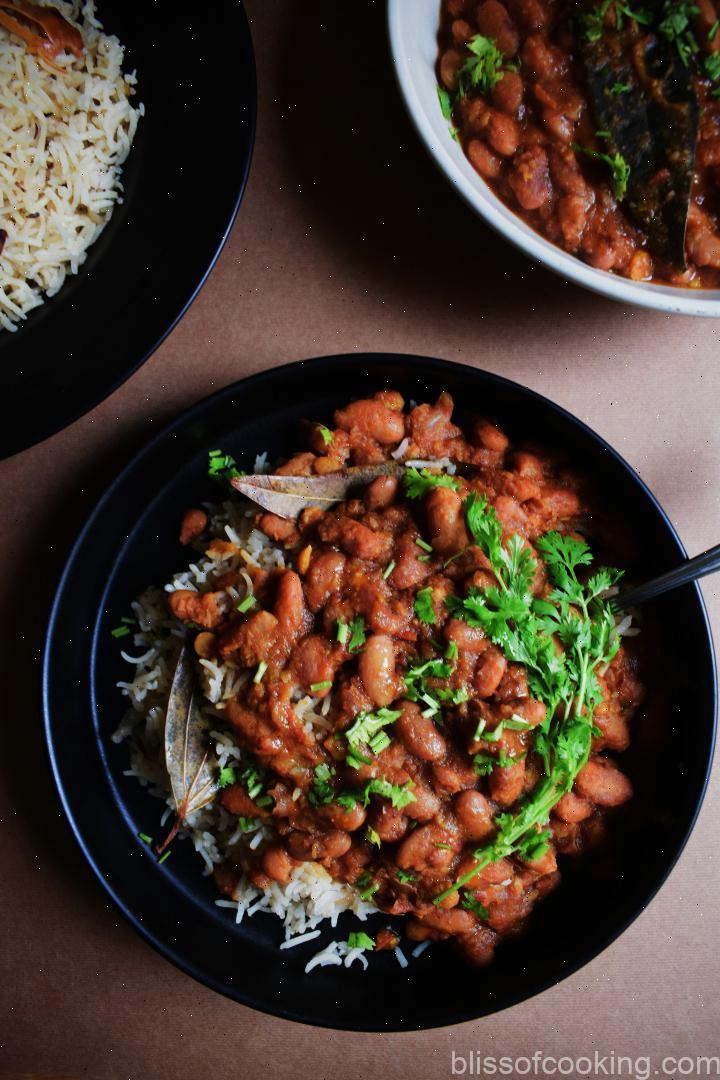rajma: (172, 395, 648, 868)
